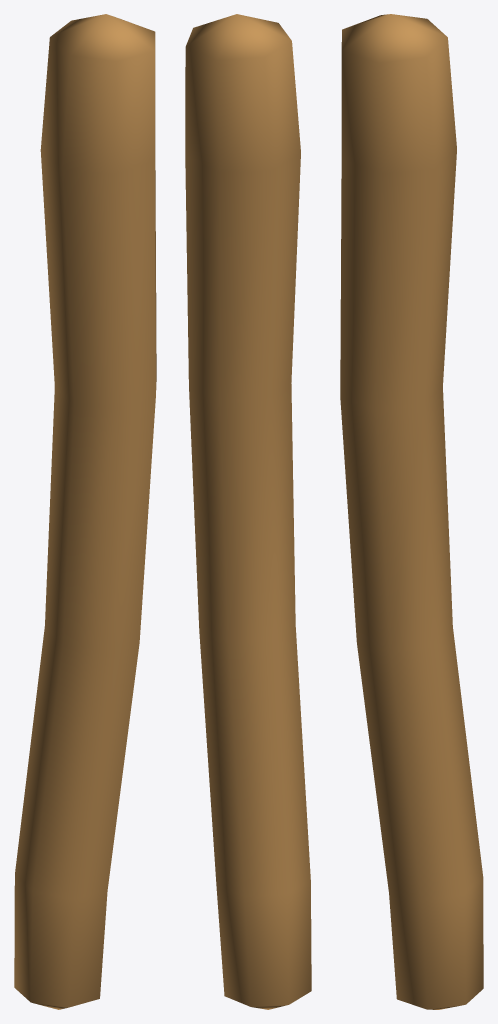
Rendered from tarsus_T3_right_leg.obj.
3 views of the same model, side by side, from view 1: azimuth 90°, elevation 25°; view 2: azimuth 210°, elevation 25°; view 3: azimuth 270°, elevation 25° (orthographic).
Bounding box in the file's own units: 0.00449 × 0.0419 × 0.00545.
